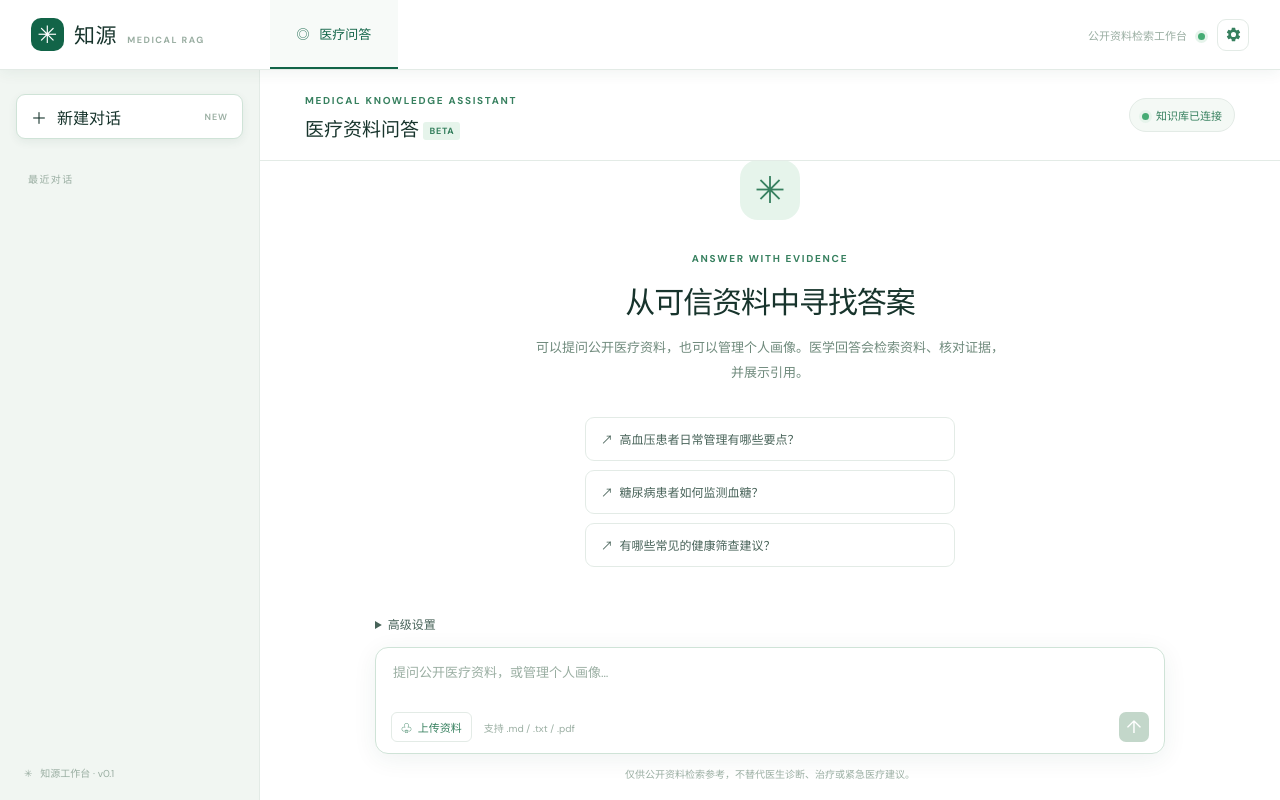
it: never sends sensitive-memory consent and separates saving from answer completion
In the text box named "输入医疗资料问题": (770, 684) [391, 661, 1149, 707], type "我的自述"
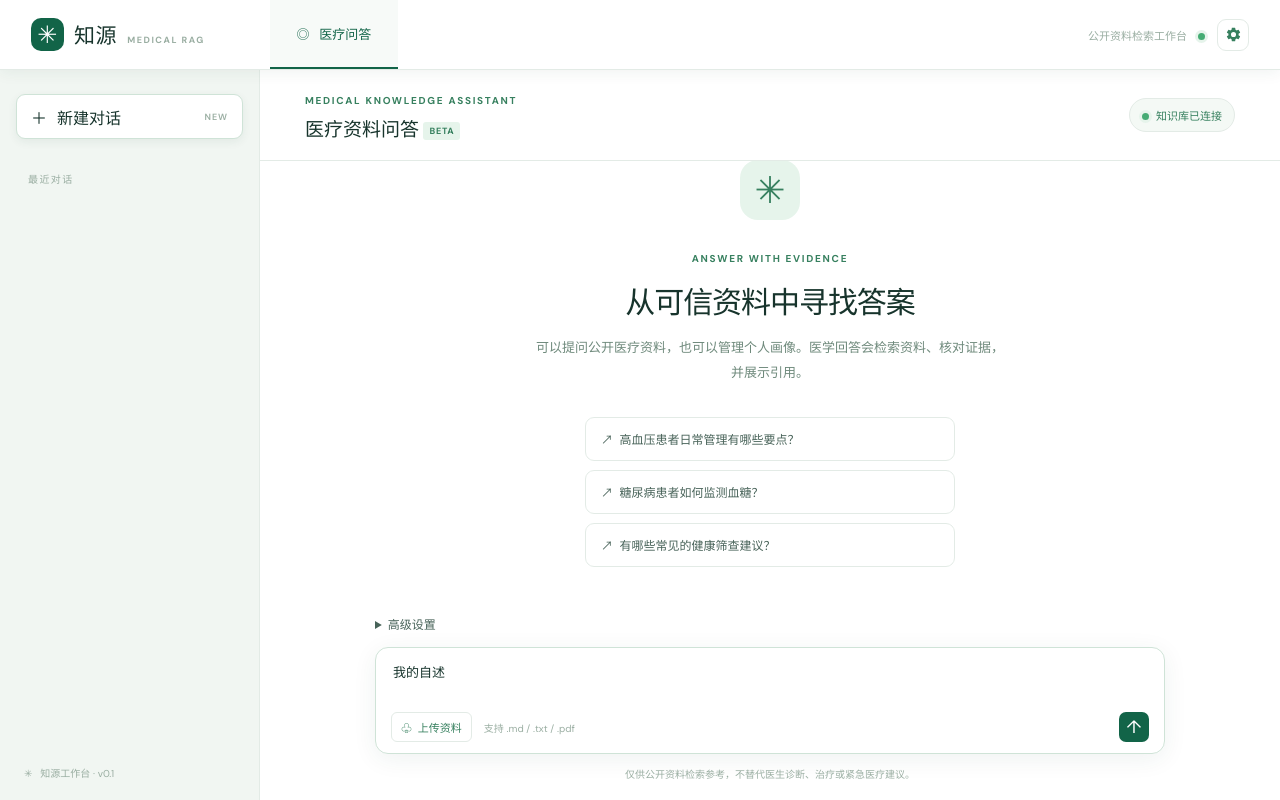
Click the button named "发送问题": (1134, 727) [1119, 712, 1149, 742]
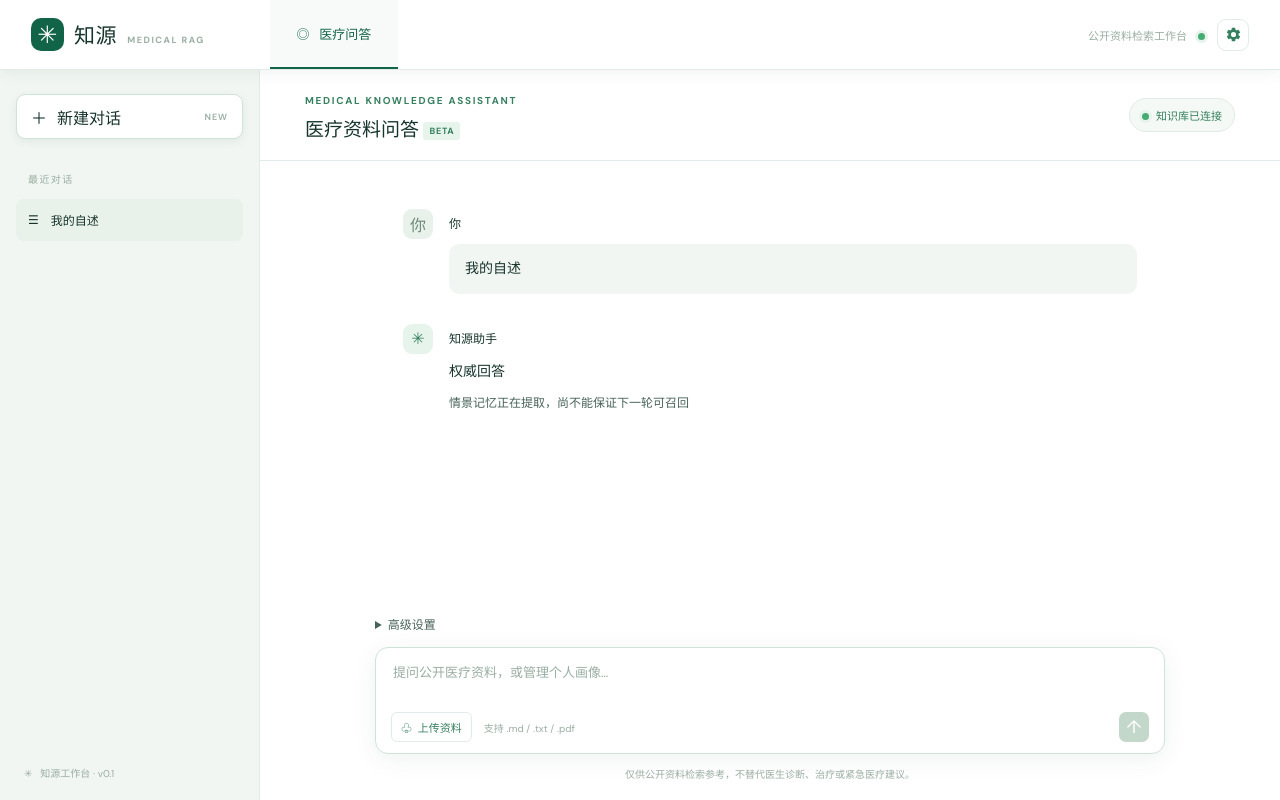
Now the text "权威回答" is shown, box [449, 362, 505, 380]
Now the text "情景记忆正在提取，尚不能保证下一轮可召回" is shown, box [449, 395, 689, 411]
